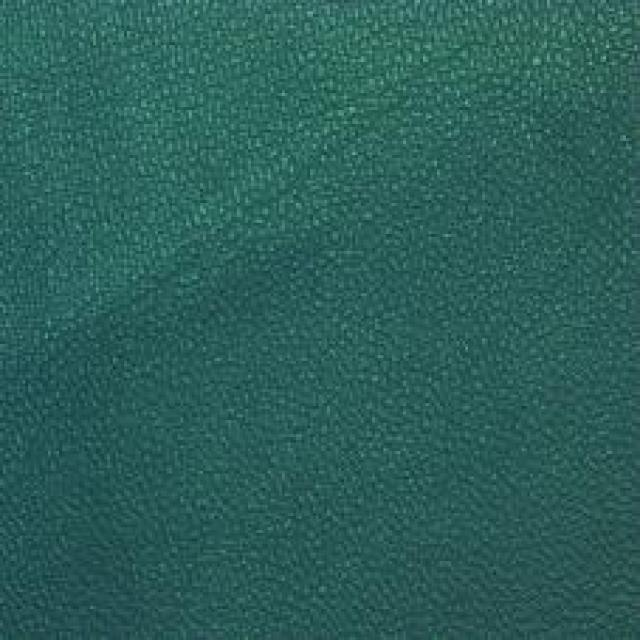Growth Marks: (282, 90, 485, 207), (58, 222, 265, 327)
